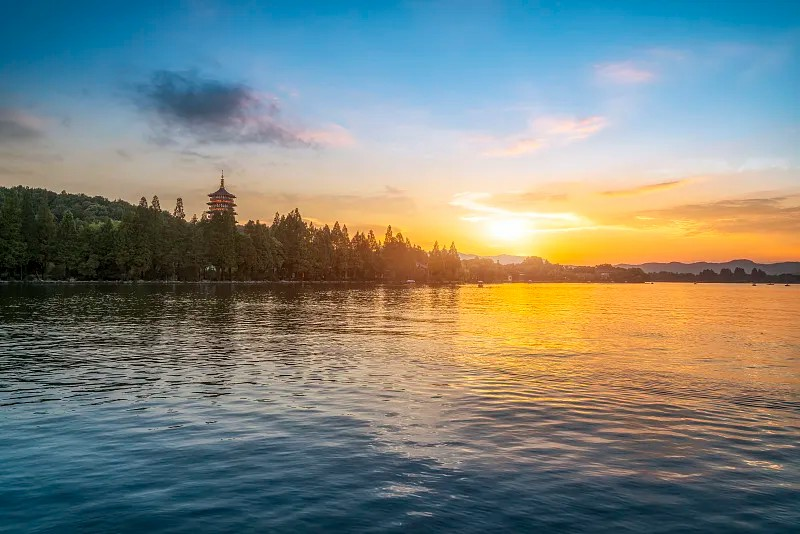Leifeng: (204, 170, 238, 221)
